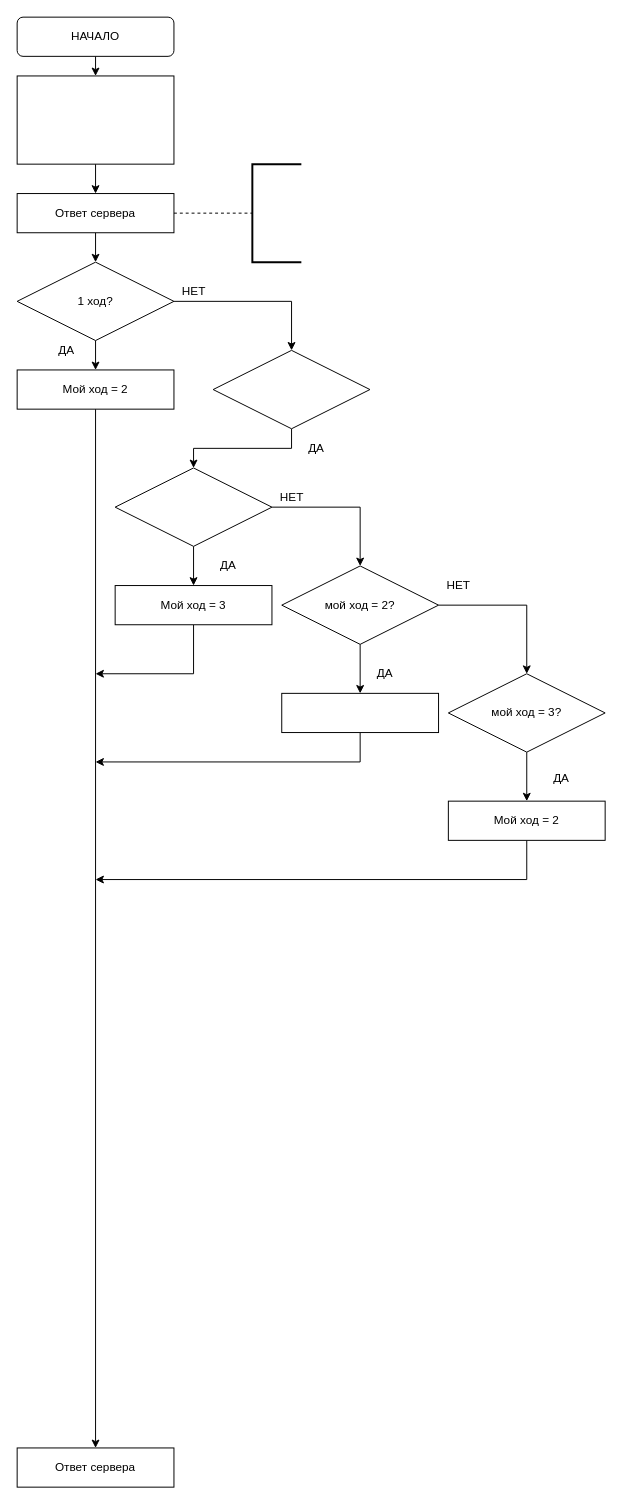
This 622x1504 diagram has some shape labels left out. Each missing label, with the centre of its shape:
"Камень = 1 Ножницы = 2 Бумага = 3 А - массив предыдущих ходов противника" belongs at (x=95, y=119).
"Мой ход = 1" belongs at (x=360, y=712).
"мой ход = 1?" belongs at (x=193, y=506).
"Ход мой Ход соперника Результат" belongs at (x=276, y=213).
"Я выиграл?" belongs at (x=291, y=389).
